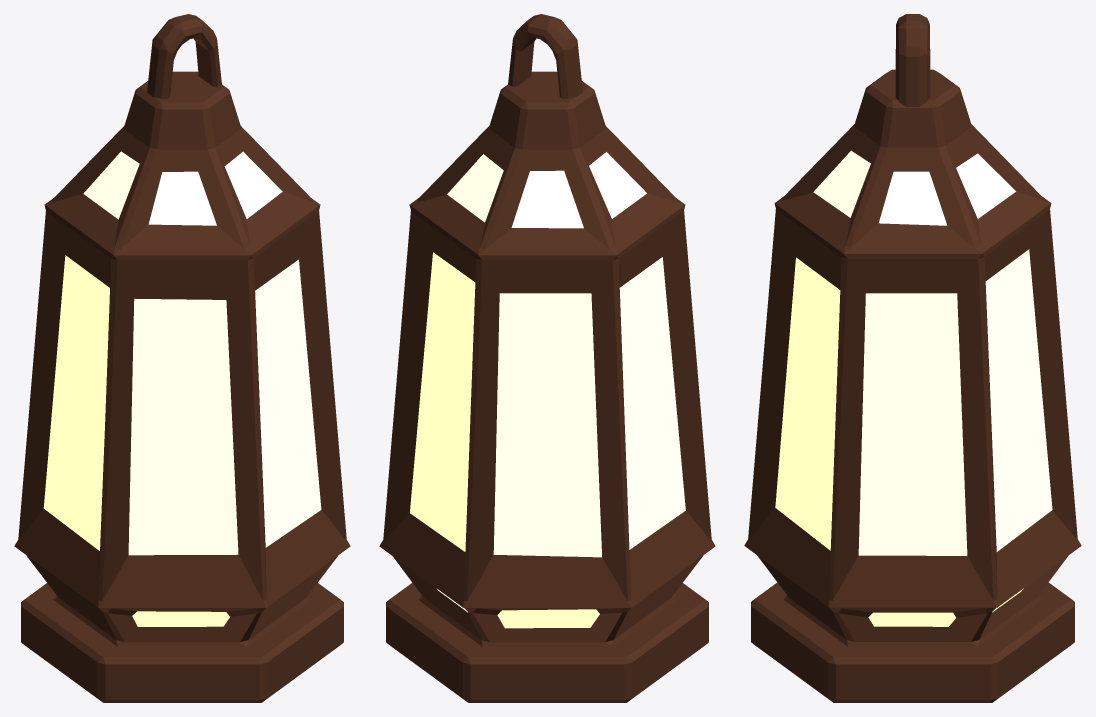
Rendered from lantern.fbx.
The picture shows the model from 3 angles, left to right: view 1: azimuth 30°, elevation 25°; view 2: azimuth 150°, elevation 25°; view 3: azimuth 270°, elevation 25°; orthographic projection.
Parts seen in each view (by area): view 1: Lantern; view 2: Lantern; view 3: Lantern.
Part boxes in pixels (x1=…): Lantern: x1=14, y1=14, x2=350, y2=702; Lantern: x1=379, y1=14, x2=715, y2=702; Lantern: x1=744, y1=14, x2=1081, y2=702.
Bounding box in the file's own units: 165 × 390 × 190.
